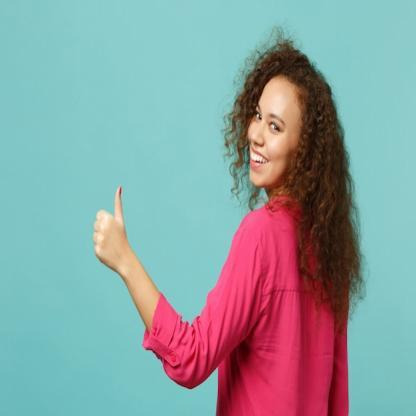thumb_up: (88, 184, 132, 272)
